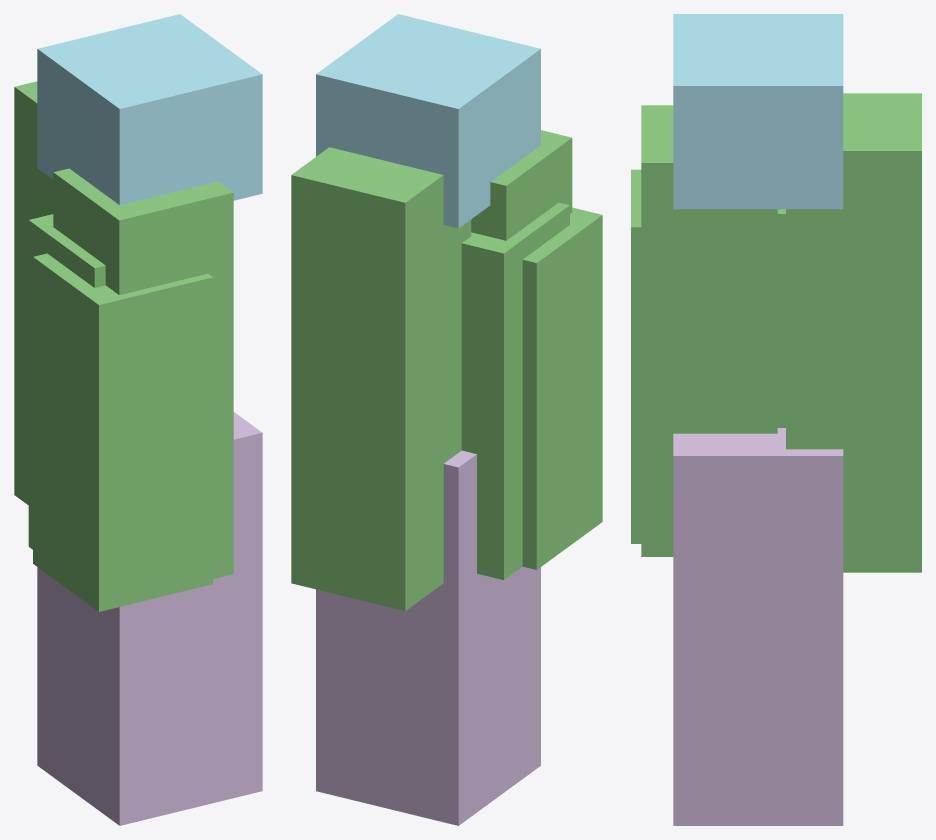
The model's file is Item_Herb_AMF_Starkibble_Bundle3.glb.
3 views of the same model, side by side, from view 1: azimuth 30°, elevation 25°; view 2: azimuth 150°, elevation 25°; view 3: azimuth 270°, elevation 25° (orthographic). The views are drawn at different scales.
Visible parts, largest first — view 1: Item_Herb_AMF_Starkibble_Bundle3; view 2: Item_Herb_AMF_Starkibble_Bundle3; view 3: Item_Herb_AMF_Starkibble_Bundle3.
Boxes of the visible parts, <box> form: Item_Herb_AMF_Starkibble_Bundle3: <box>14,14,262,825</box>; Item_Herb_AMF_Starkibble_Bundle3: <box>291,14,602,825</box>; Item_Herb_AMF_Starkibble_Bundle3: <box>631,14,921,825</box>.
Size of the model in its own units: 0.0645 by 0.24 by 0.0855.
